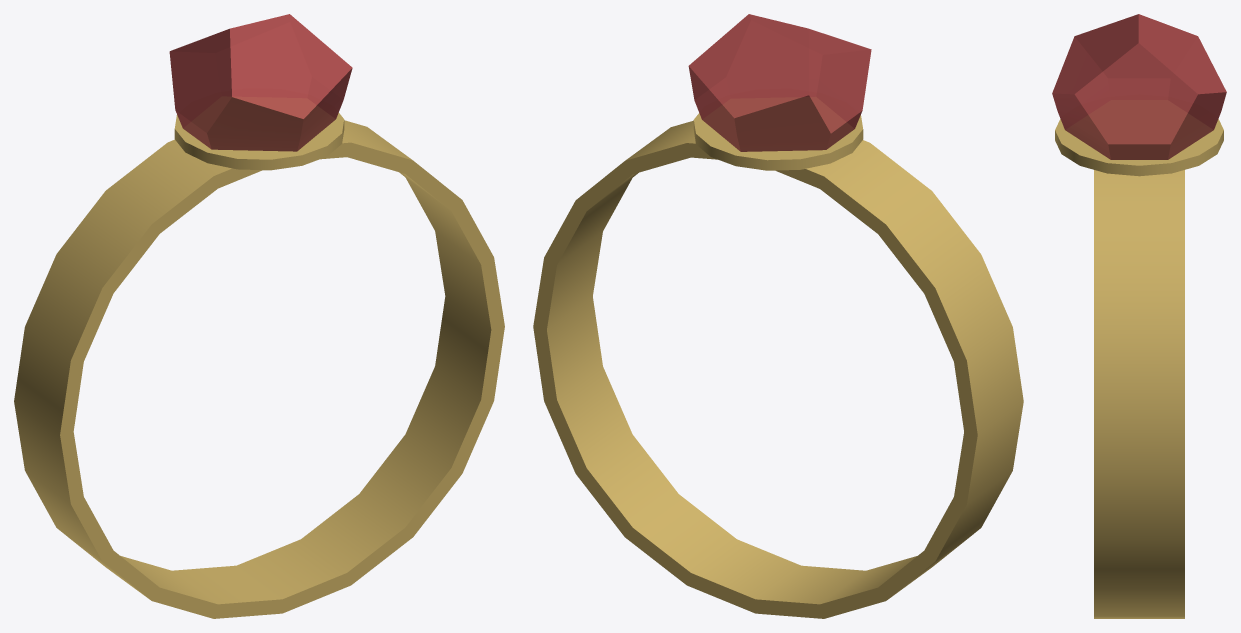
The model's file is Ring.fbx.
The picture shows the model from 3 angles, left to right: view 1: azimuth 30°, elevation 25°; view 2: azimuth 150°, elevation 25°; view 3: azimuth 270°, elevation 25°; orthographic projection.
Parts seen in each view (by area): view 1: Ring; view 2: Ring; view 3: Ring.
Part boxes in pixels (<box>): Ring: <box>14,14,504,618</box>; Ring: <box>533,14,1023,618</box>; Ring: <box>1052,14,1226,618</box>.
Bounding box in the file's own units: 0.51 × 0.6305 × 0.1756.
